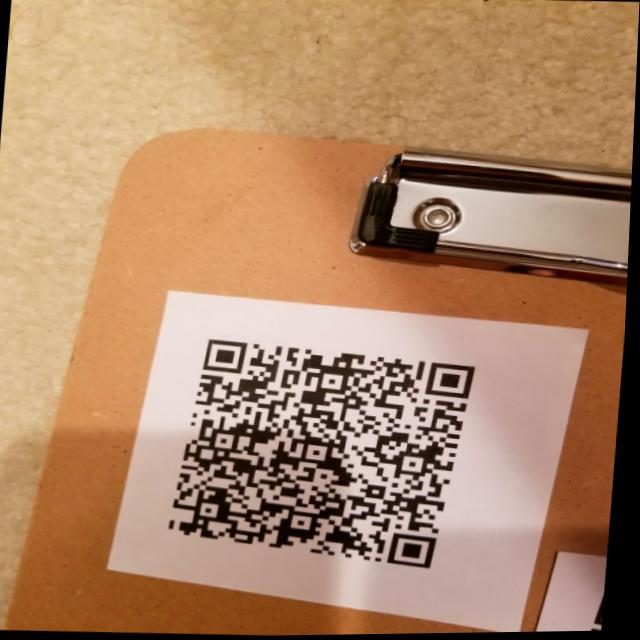QR_CODE: (161, 325, 487, 581)
